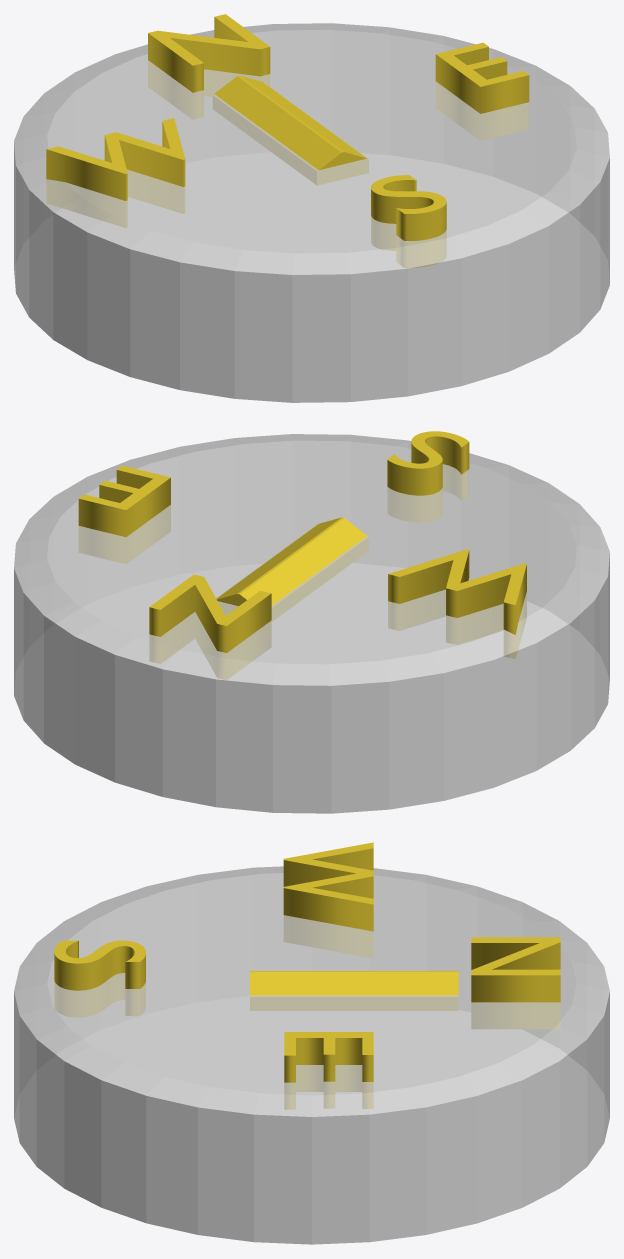
Rendered from compass_dial.glb.
The picture shows the model from 3 angles, top to bottom: view 1: azimuth 30°, elevation 25°; view 2: azimuth 150°, elevation 25°; view 3: azimuth 270°, elevation 25°; orthographic projection.
Parts seen in each view (by area): view 1: Dial, W, north_notch, N, E, S; view 2: Dial, W, N, E, north_notch, S; view 3: Dial, W, north_notch, N, S, E.
Boxes of the visible parts, x1,y1,x2,y2 form: Dial: (14,23,609,402); W: (46,118,185,227); north_notch: (213,75,368,185); N: (148,14,270,119); E: (435,42,529,140); S: (371,175,446,267); Dial: (14,434,609,813); W: (388,549,526,658); N: (149,574,271,679); E: (78,465,170,563); north_notch: (216,517,368,621); S: (387,431,469,522); Dial: (14,866,609,1244); W: (283,842,373,957); north_notch: (250,971,458,1010); N: (471,937,560,1028); S: (54,940,145,1017); E: (284,1032,373,1109).
Bounding box in the file's own units: 2 × 0.6 × 2.
